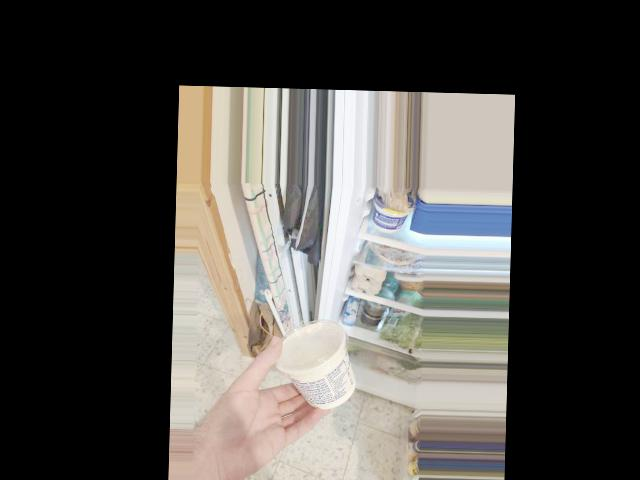cotage: (284, 319, 353, 407)
